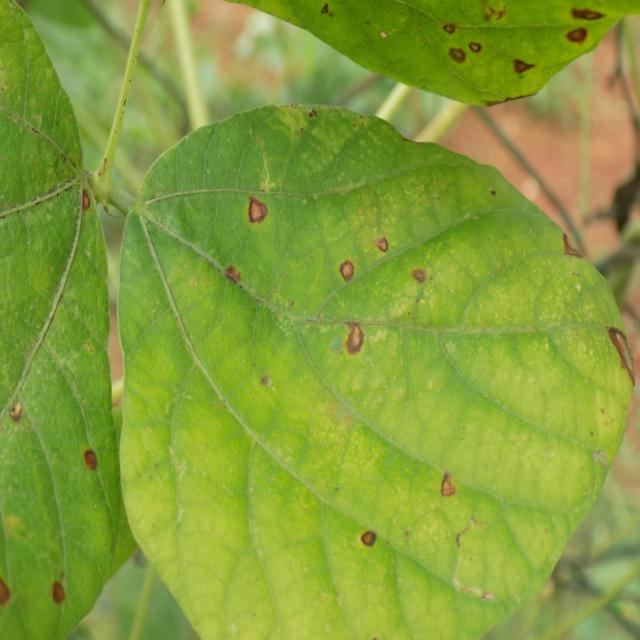Dolicos bean_cercospora leaf spot: (113, 104, 639, 640)
